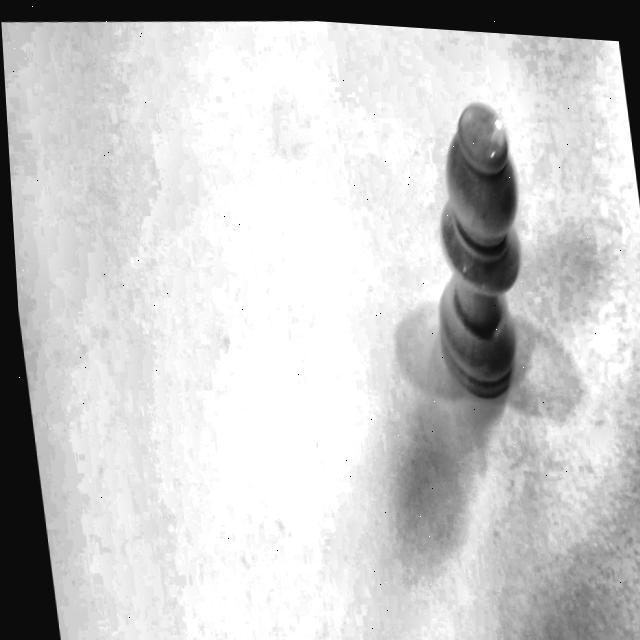white-bishop: (362, 24, 591, 462)
